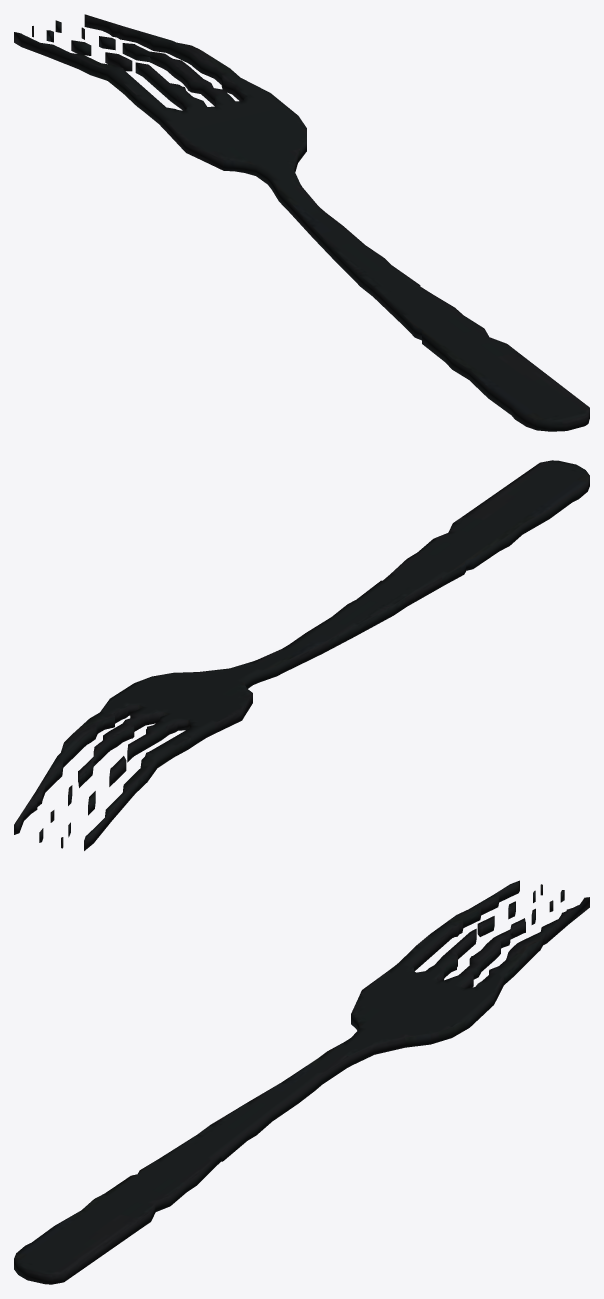
3 renders of one model, top to bottom at view 1: azimuth 30°, elevation 25°; view 2: azimuth 150°, elevation 25°; view 3: azimuth 330°, elevation 25°, orthographic. The views are drawn at different scales.
Visible parts, largest first — view 1: body; view 2: body; view 3: body.
Boxes of the visible parts, x1,y1,x2,y2 form: body: (14,14,589,431); body: (14,460,589,850); body: (14,880,589,1284).
Bounding box in the file's own units: 0.0244 × 0.0077 × 0.1868.
Materials: 1 (1 with a texture image).
